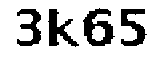3: (14, 7, 47, 52)
5: (117, 5, 151, 51)
6: (80, 5, 116, 48)
k: (45, 4, 81, 51)
